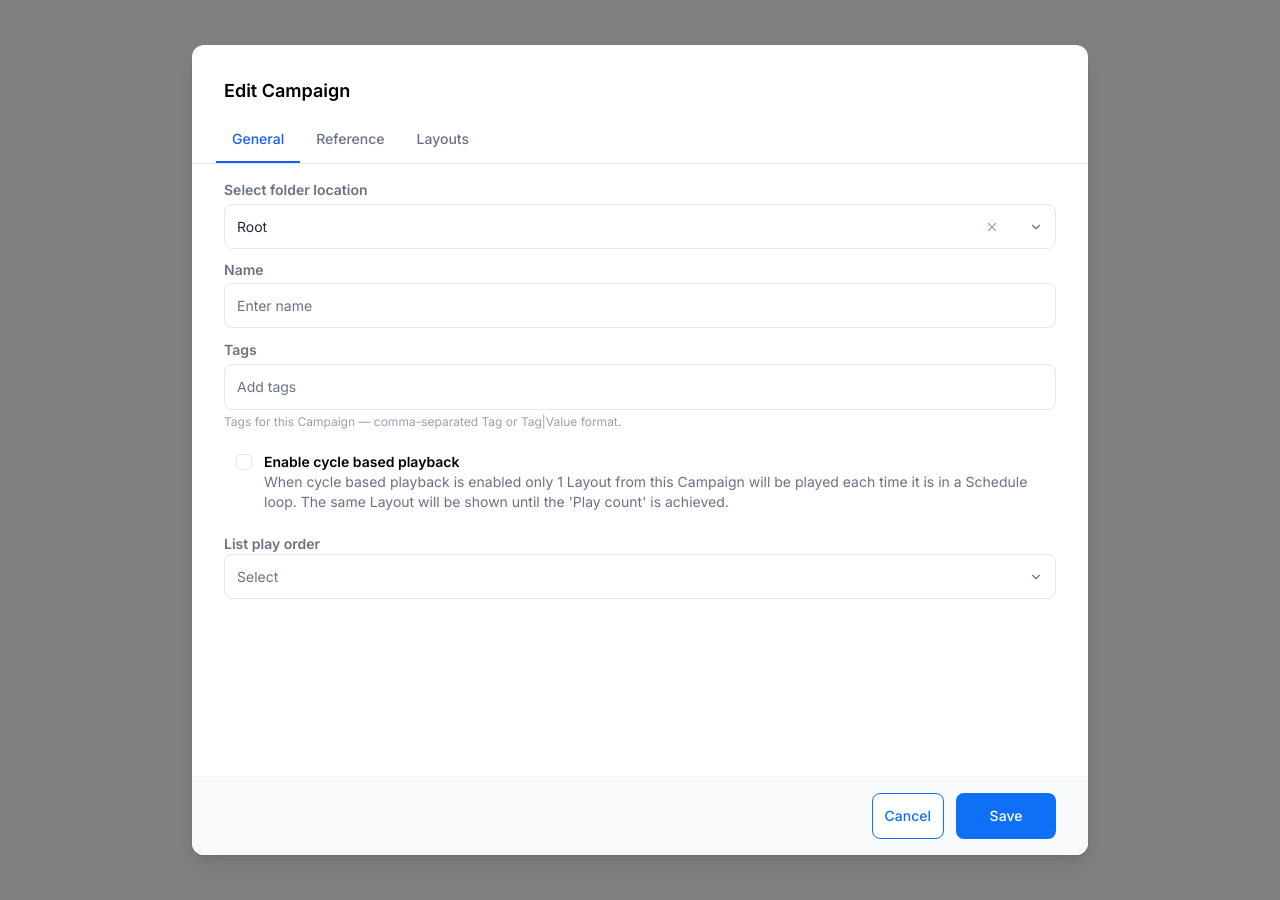
Test: EditCampaignModal › switching to the Reference tab shows 5 reference input fields
Click the button "Reference".
click(350, 140)  # box [300,117,401,163]
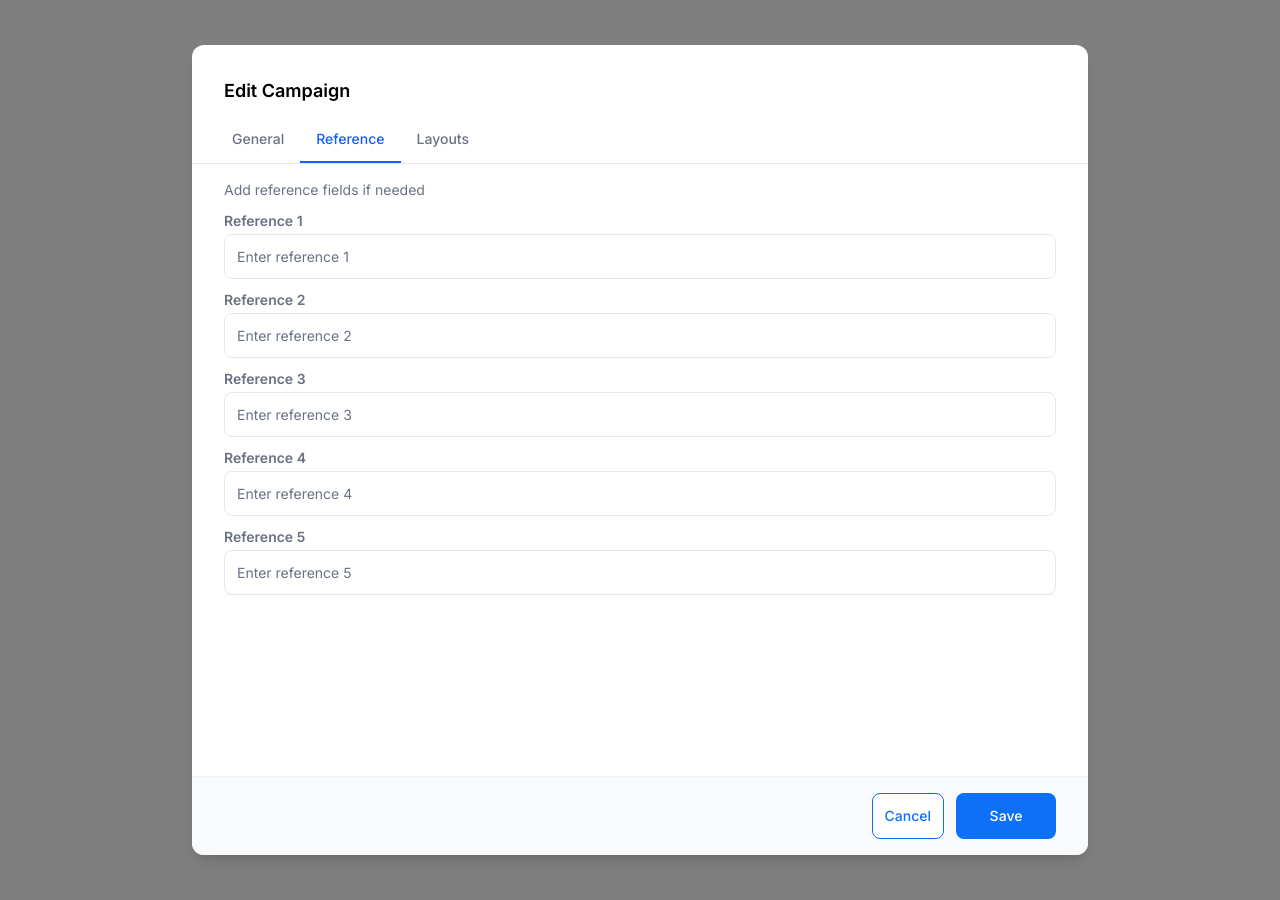
Expected: the field labelled "Reference 1" is shown, [225,235,1055,278]
Expected: the field labelled "Reference 2" is shown, [225,314,1055,357]
Expected: the field labelled "Reference 3" is shown, [225,393,1055,436]
